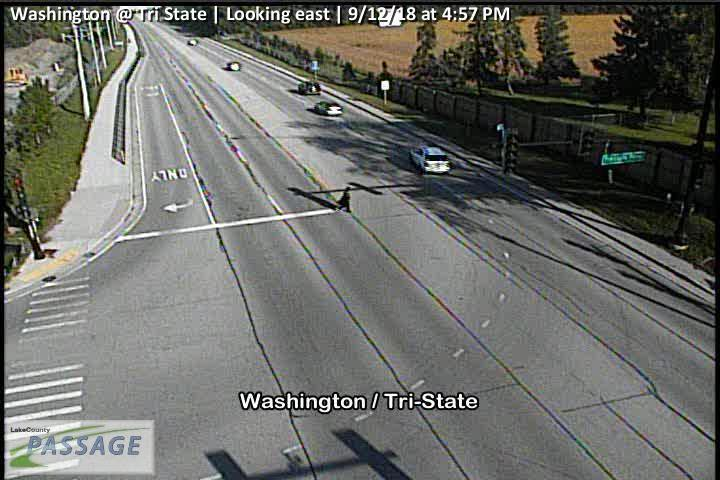SUV: (408, 143, 451, 174), (296, 80, 322, 95)
Sedan: (314, 100, 344, 116), (227, 60, 241, 72), (186, 37, 199, 48)
